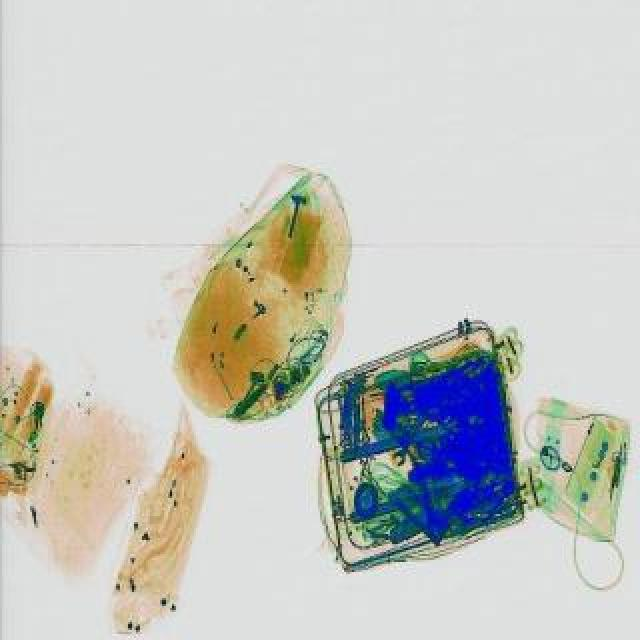scissors: (386, 402, 434, 466)
